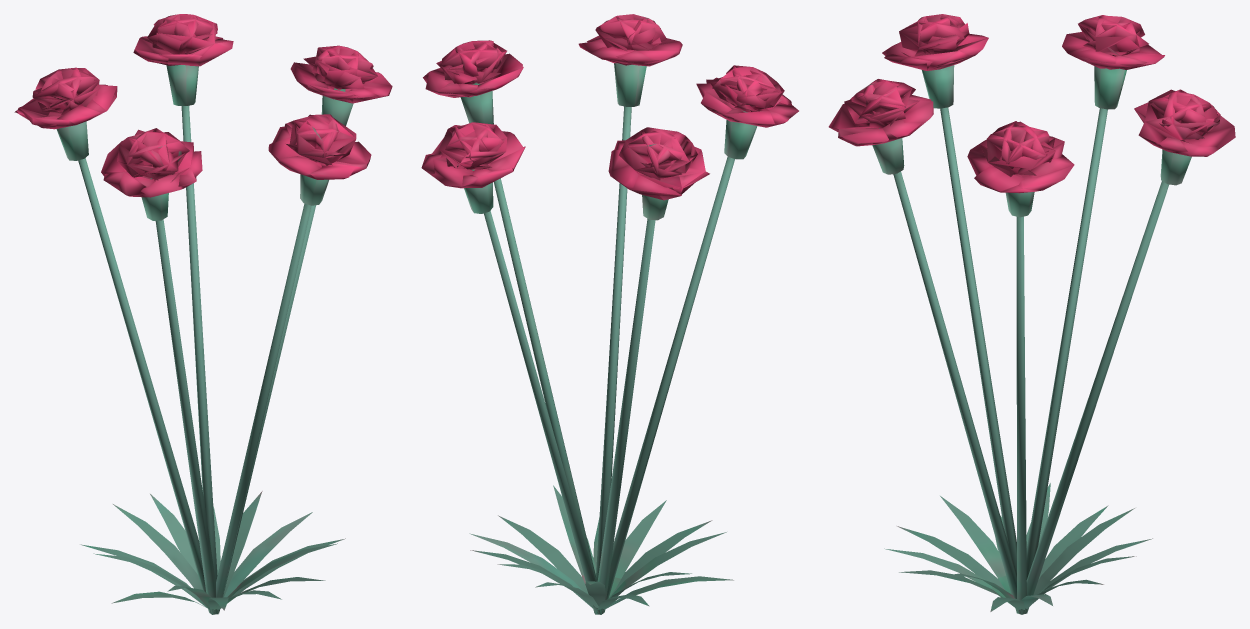
The model's file is crop_carnation.glb.
3 views of the same model, side by side, from view 1: azimuth 30°, elevation 25°; view 2: azimuth 150°, elevation 25°; view 3: azimuth 270°, elevation 25° (orthographic). The views are drawn at different scales.
Parts seen in each view (by area): view 1: crop_carnation, fruit; view 2: crop_carnation, fruit; view 3: crop_carnation, fruit.
Part boxes in pixels (x1,y1,x2,y2): crop_carnation: (56,65,353,614); fruit: (14,14,392,197); crop_carnation: (460,63,757,614); fruit: (421,14,798,200); crop_carnation: (872,65,1191,614); fruit: (828,14,1235,193).
Size of the model in its own units: 0.1648 by 0.2641 by 0.1788.
1 material, 1 textured.
